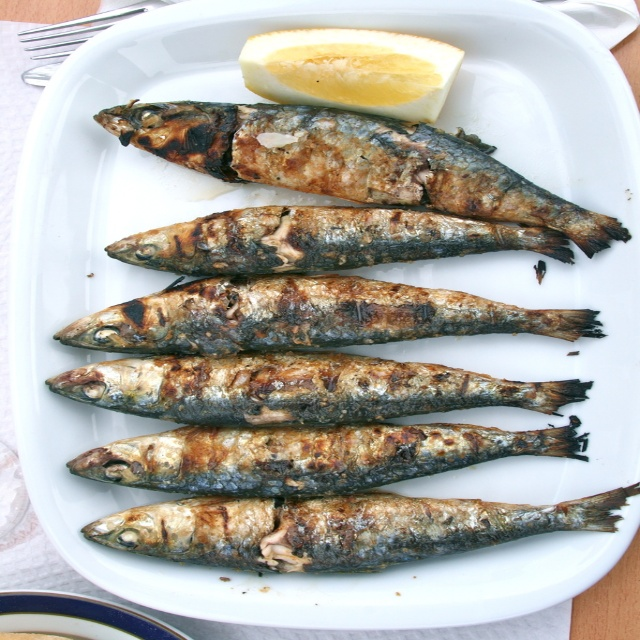Fish: (45, 96, 640, 579)
